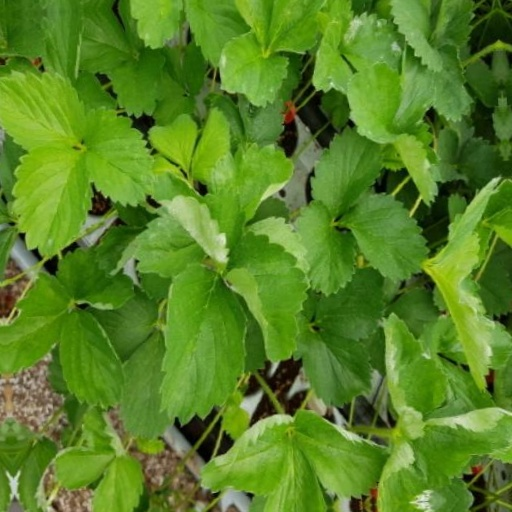Powdery Mildew Leaf: (21, 242, 90, 407), (263, 164, 359, 262), (132, 411, 231, 506), (0, 421, 116, 498), (70, 319, 136, 449), (229, 415, 328, 498), (210, 28, 282, 109), (376, 234, 458, 303), (304, 205, 383, 273), (90, 436, 154, 511), (96, 16, 160, 77), (466, 422, 511, 507), (363, 216, 418, 268), (410, 435, 471, 481), (397, 395, 441, 448)
